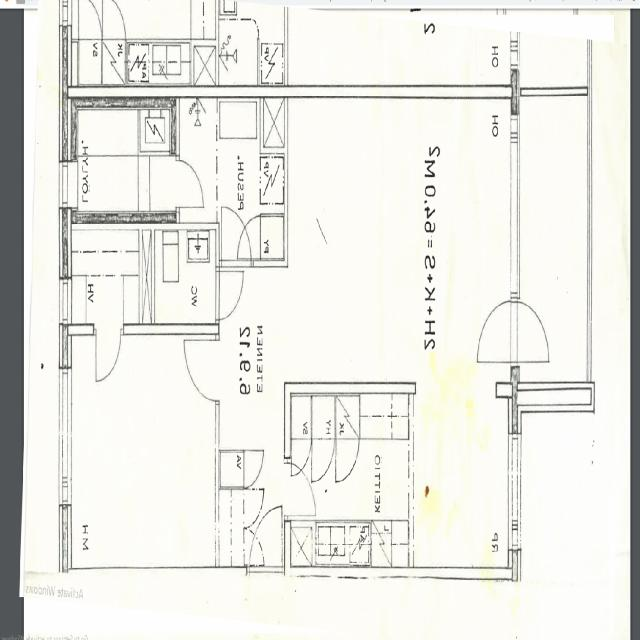door: (479, 302, 520, 362), (512, 302, 552, 362), (250, 567, 282, 640), (250, 506, 282, 578), (183, 340, 220, 401), (221, 206, 251, 268), (284, 464, 319, 516), (169, 161, 204, 207), (96, 324, 121, 381), (216, 272, 245, 320)
